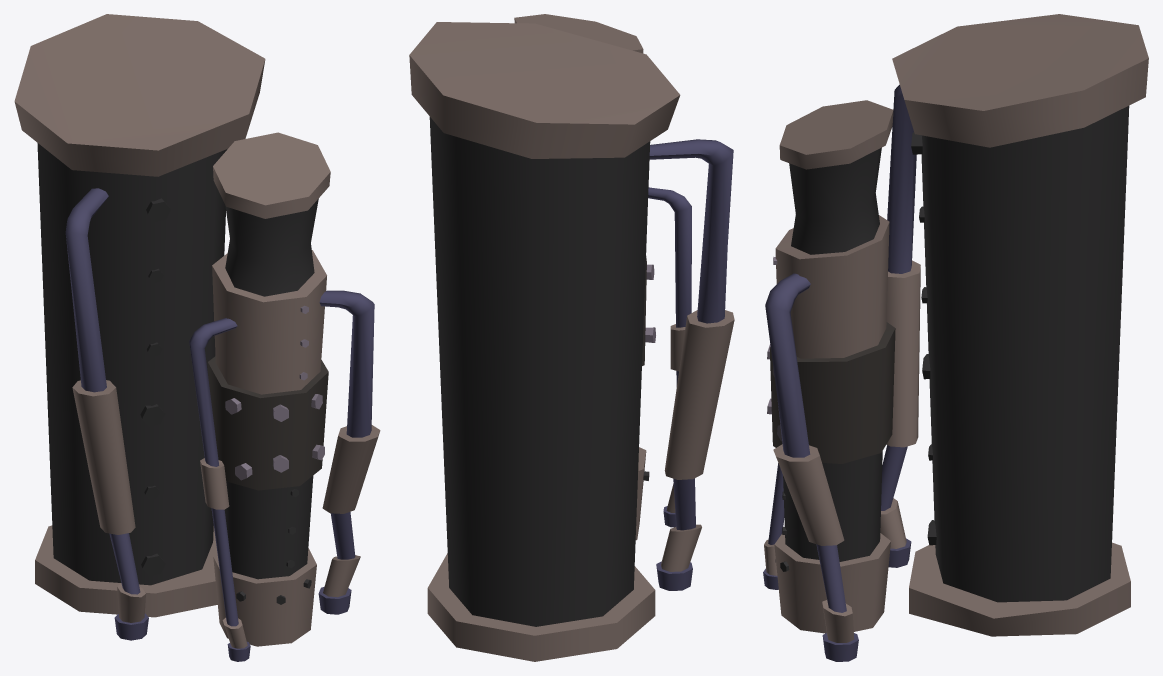
The model's file is RooftopProp_Tank-00.fbx.
3 renders of one model, left to right at view 1: azimuth 30°, elevation 25°; view 2: azimuth 150°, elevation 25°; view 3: azimuth 270°, elevation 25°, orthographic. The views are drawn at different scales.
Visible parts, largest first — view 1: RooftopProp_Tank-00; view 2: RooftopProp_Tank-00; view 3: RooftopProp_Tank-00.
Part boxes in pixels (x1,y1,x2,y2): RooftopProp_Tank-00: [14, 14, 380, 661]; RooftopProp_Tank-00: [409, 14, 734, 661]; RooftopProp_Tank-00: [763, 14, 1148, 661].
Bounding box in the file's own units: 12.39 × 23.23 × 14.72.
